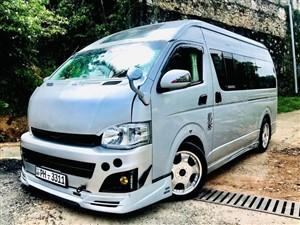van: (20, 20, 277, 214)
